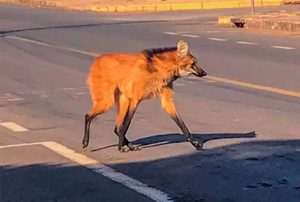LoboGuara: (79, 38, 214, 151)
